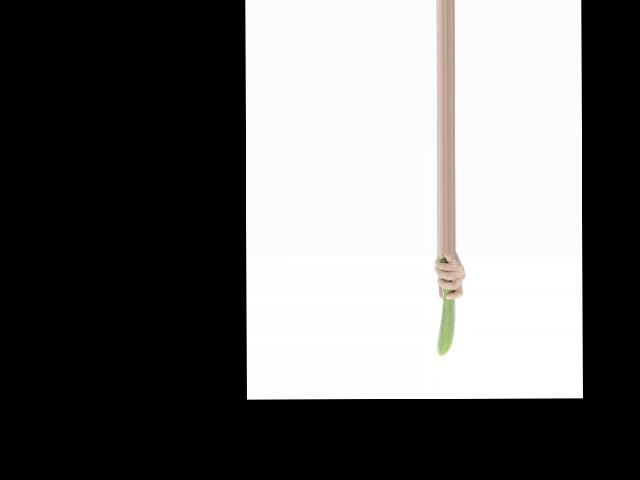cucumber: (436, 254, 455, 356)
